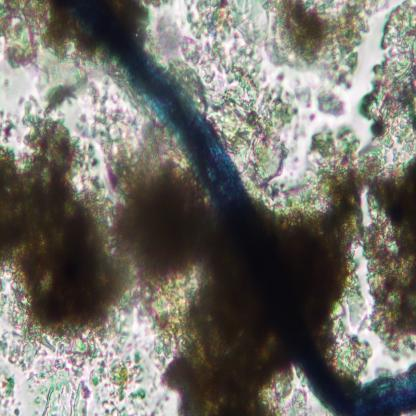Background material: (0, 107, 127, 348), (140, 289, 305, 412), (104, 143, 218, 293), (282, 130, 380, 300), (214, 47, 298, 184), (260, 0, 371, 89), (369, 150, 416, 354), (359, 4, 416, 146), (81, 77, 146, 170), (0, 0, 72, 74), (74, 348, 146, 412), (10, 348, 73, 415), (184, 0, 259, 50), (172, 46, 226, 101), (40, 69, 89, 118), (333, 332, 369, 382), (314, 84, 348, 118), (0, 370, 20, 415)
Cotton: (74, 0, 416, 416)
